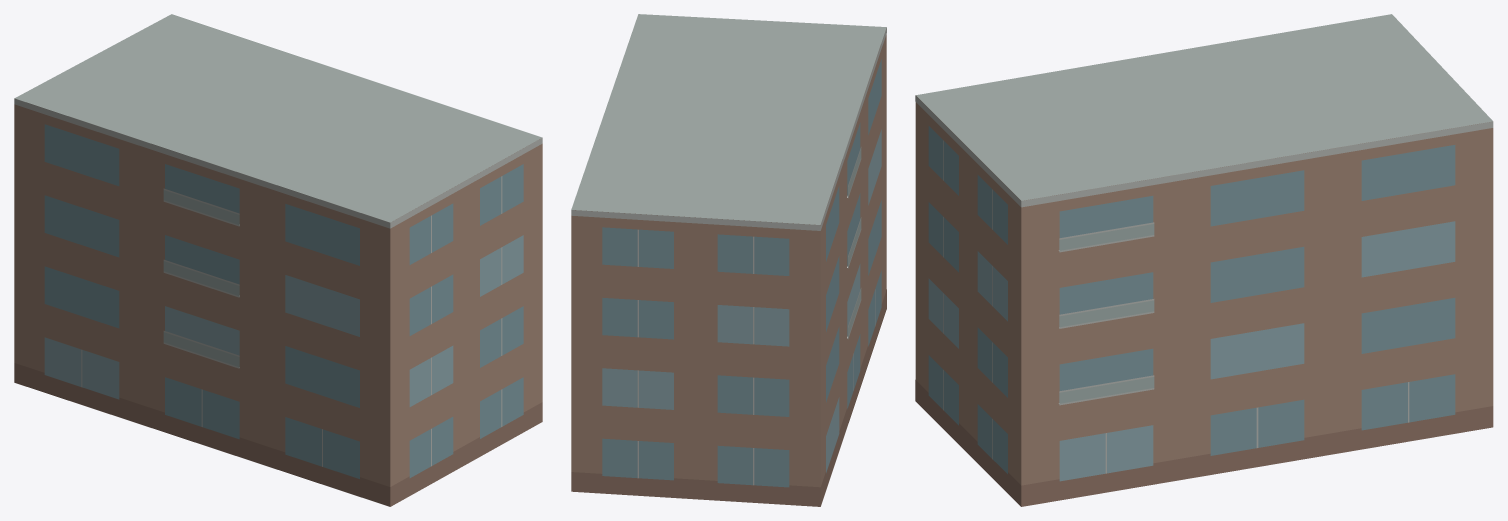
File: survey-upis-32848099.glb
3 renders of one model, left to right at view 1: azimuth 30°, elevation 25°; view 2: azimuth 150°, elevation 25°; view 3: azimuth 270°, elevation 25°, orthographic. The views are drawn at different scales.
Visible parts, largest first — view 1: survey-upis-32848099.tmp; view 2: survey-upis-32848099.tmp; view 3: survey-upis-32848099.tmp.
Boxes of the visible parts, x1,y1,x2,y2 form: survey-upis-32848099.tmp: (14, 14, 542, 506); survey-upis-32848099.tmp: (571, 14, 886, 506); survey-upis-32848099.tmp: (915, 14, 1493, 506).
Size of the model in its own units: 15.21 by 11.6 by 19.87.
